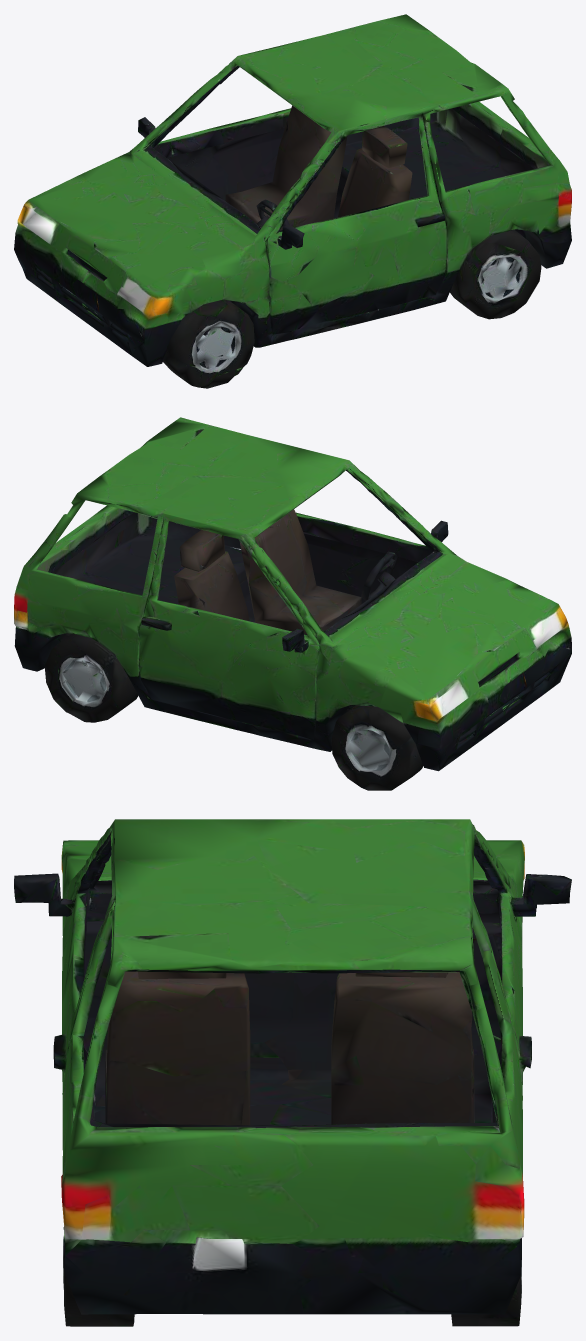
Rendered from car1.opt.glb.
3 views of the same model, one above another, from view 1: azimuth 30°, elevation 25°; view 2: azimuth 150°, elevation 25°; view 3: azimuth 270°, elevation 25° (orthographic). The views are drawn at different scales.
Bounding box in the file's own units: 1.9 × 0.911 × 1.23.
1 material, 1 textured.
